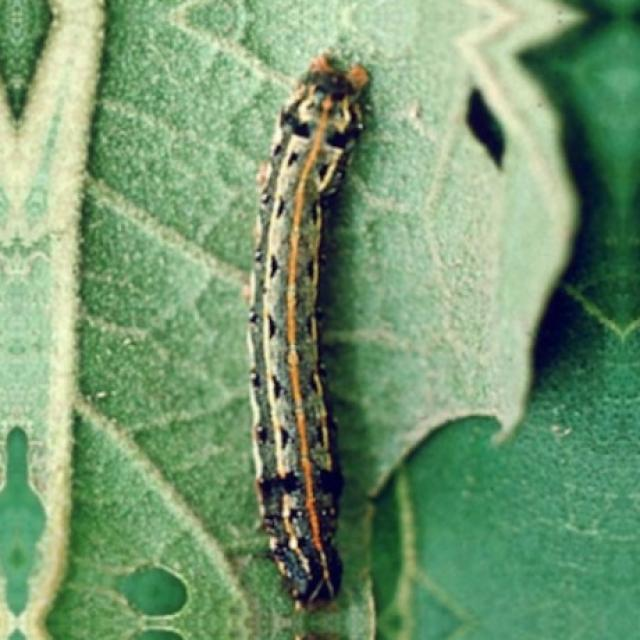Armyworm: (180, 11, 425, 627)
Armyworm_damage: (92, 538, 191, 638), (443, 72, 524, 185)
